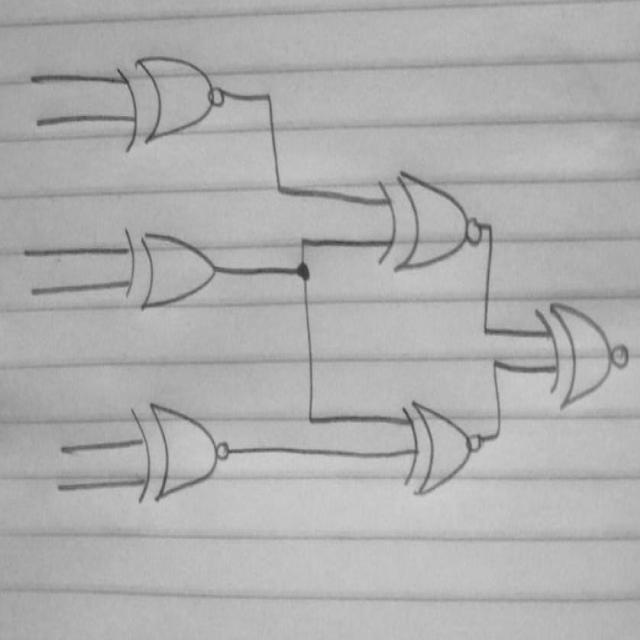XNOR: (124, 378, 240, 522), (110, 45, 238, 158), (373, 151, 480, 277), (532, 292, 637, 417), (393, 388, 486, 505)
XOR: (118, 206, 222, 328)
